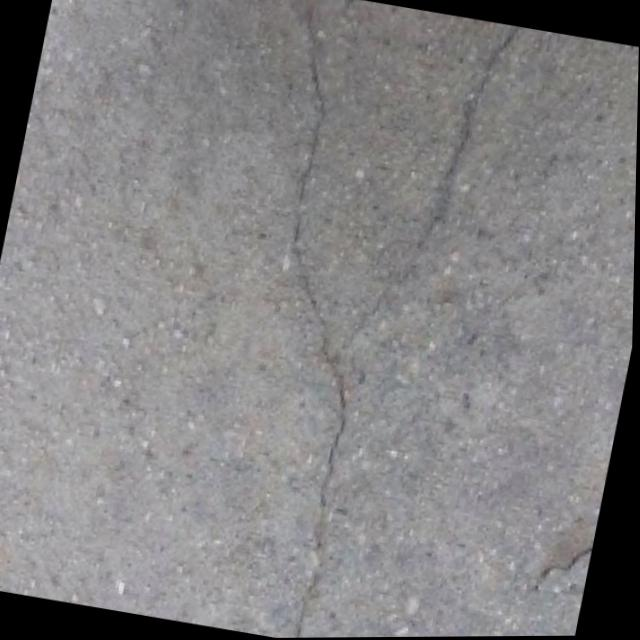Crack: (167, 0, 462, 639)
